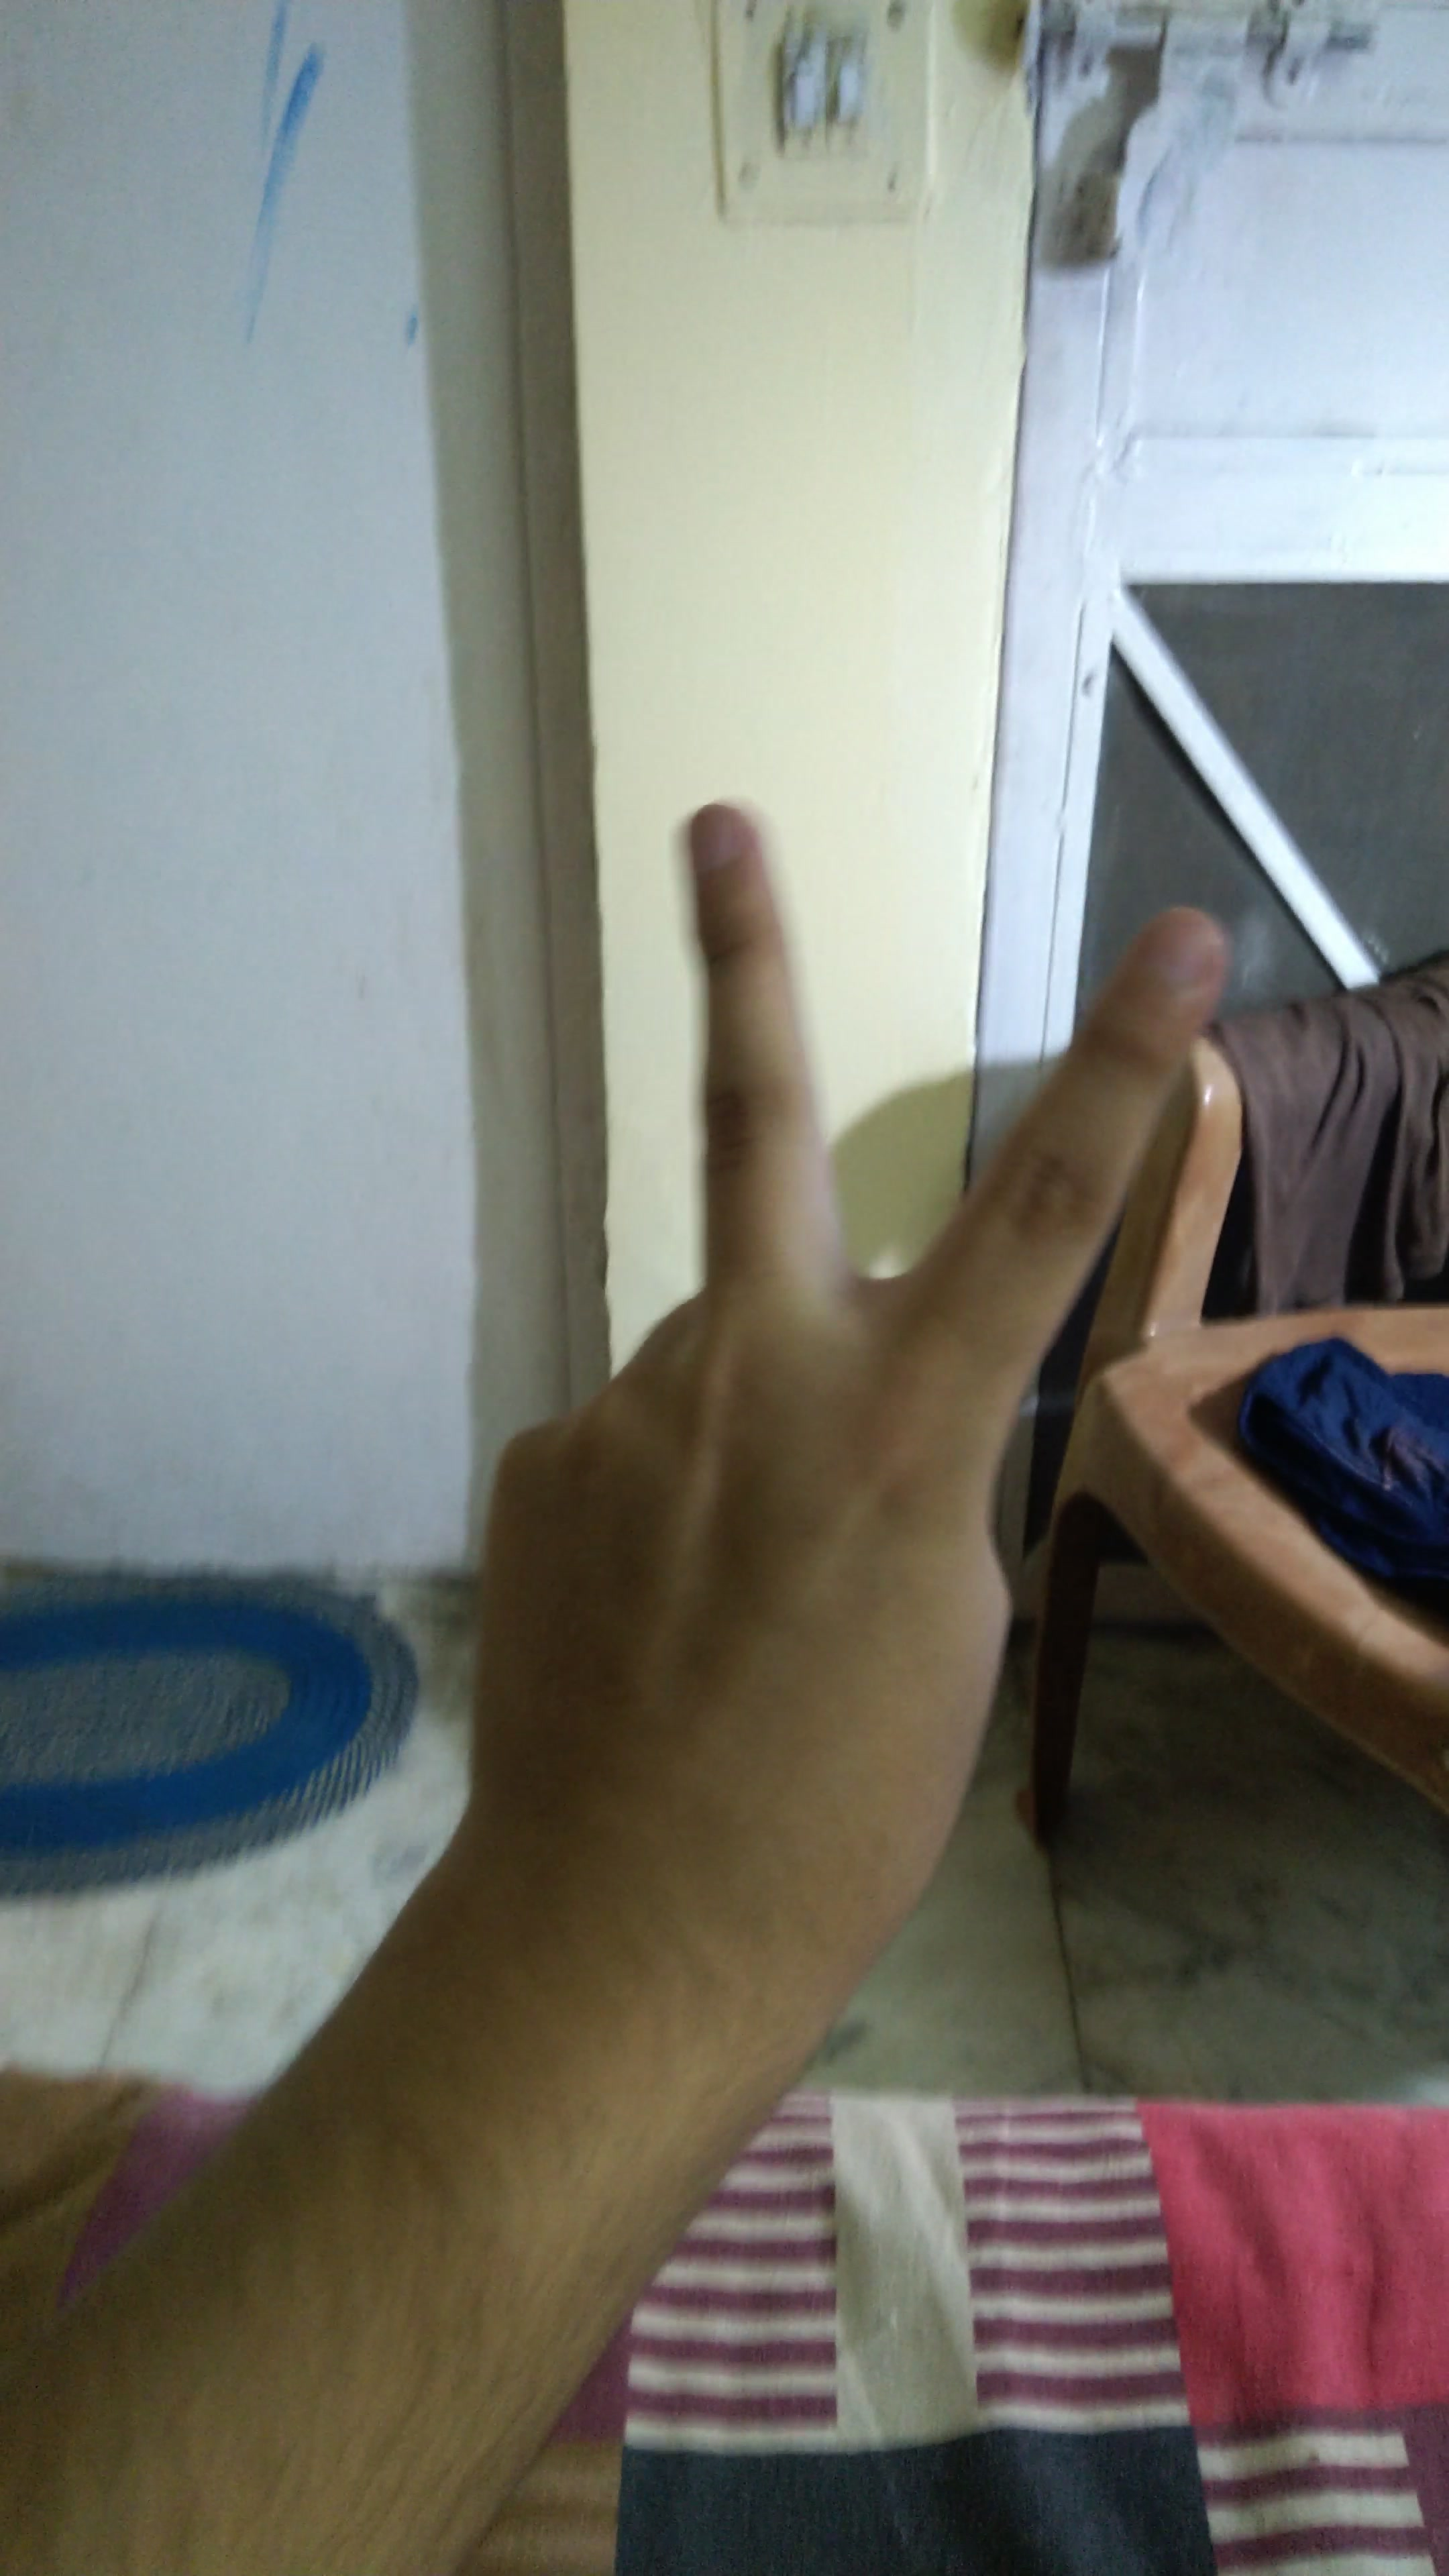hand: (349, 729, 1247, 2102)
